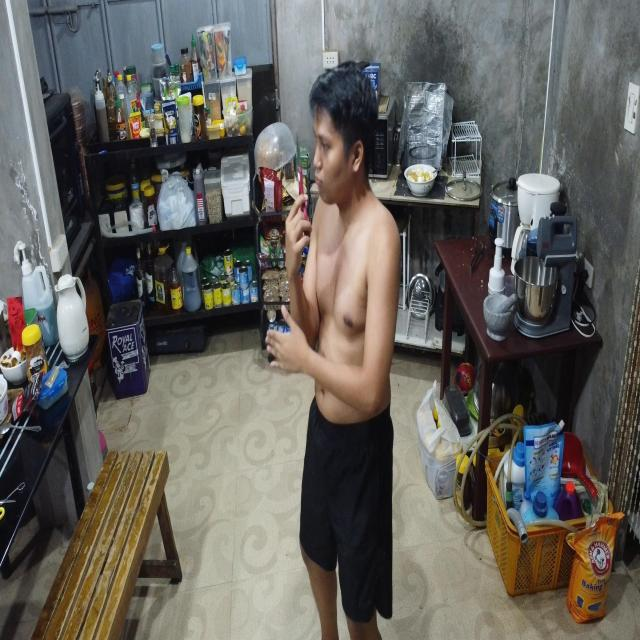scissor: (295, 127, 310, 235)
